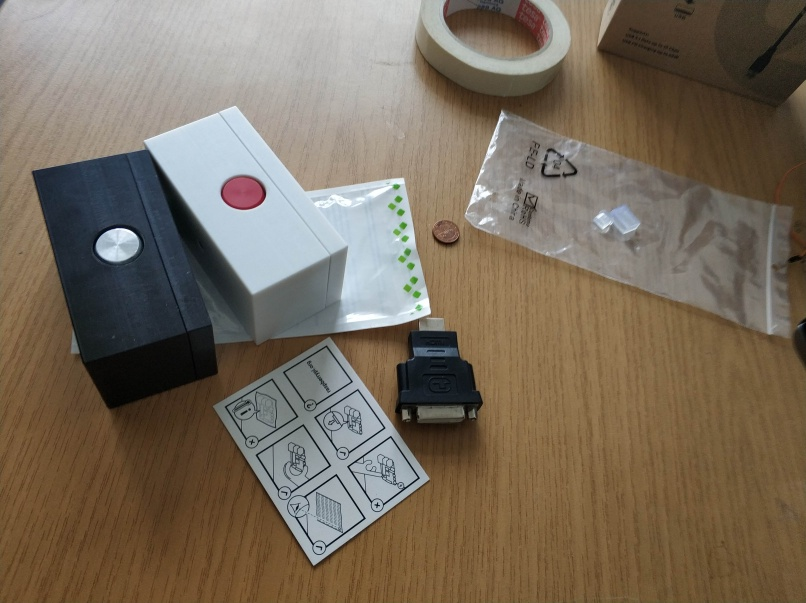black+black+silver: (27, 149, 218, 411)
white+white+red: (140, 98, 351, 348)
